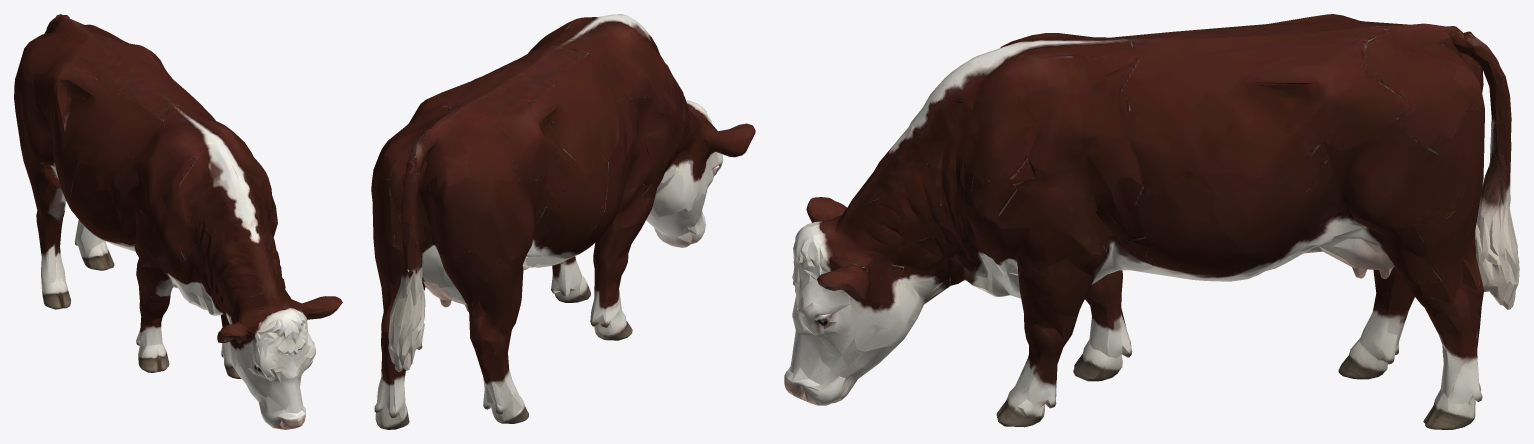
Rendered from cow_b.glb.
3 views of the same model, side by side, from view 1: azimuth 30°, elevation 25°; view 2: azimuth 150°, elevation 25°; view 3: azimuth 270°, elevation 25° (orthographic). The views are drawn at different scales.
Size of the model in its own units: 0.6146 by 1.07 by 1.9.
Materials: 1 (1 with a texture image).
